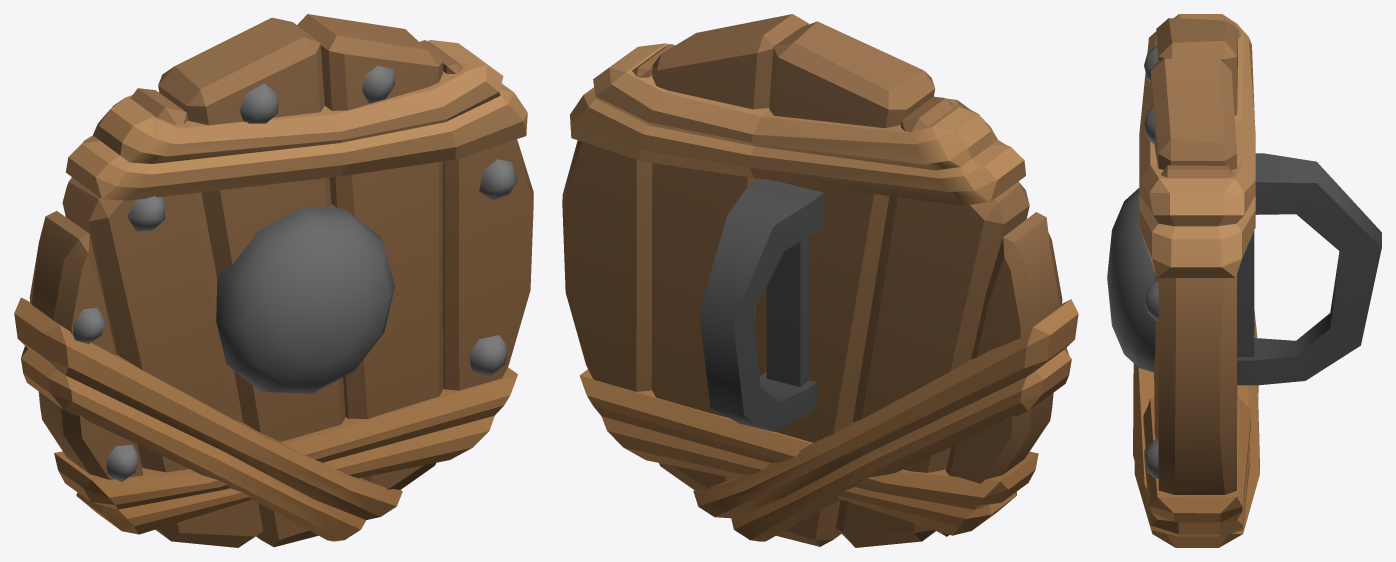
Rendered from Shield_RHand_4.fbx.
3 views of the same model, side by side, from view 1: azimuth 30°, elevation 25°; view 2: azimuth 150°, elevation 25°; view 3: azimuth 270°, elevation 25° (orthographic). The views are drawn at different scales.
Visible parts, largest first — view 1: Shield_RHand_4; view 2: Shield_RHand_4; view 3: Shield_RHand_4.
Part boxes in pixels (x1=…): Shield_RHand_4: x1=14, y1=14, x2=533, y2=547; Shield_RHand_4: x1=562, y1=14, x2=1078, y2=547; Shield_RHand_4: x1=1107, y1=14, x2=1381, y2=547.
Size of the model in its own units: 51.3 by 51.07 by 26.26.
